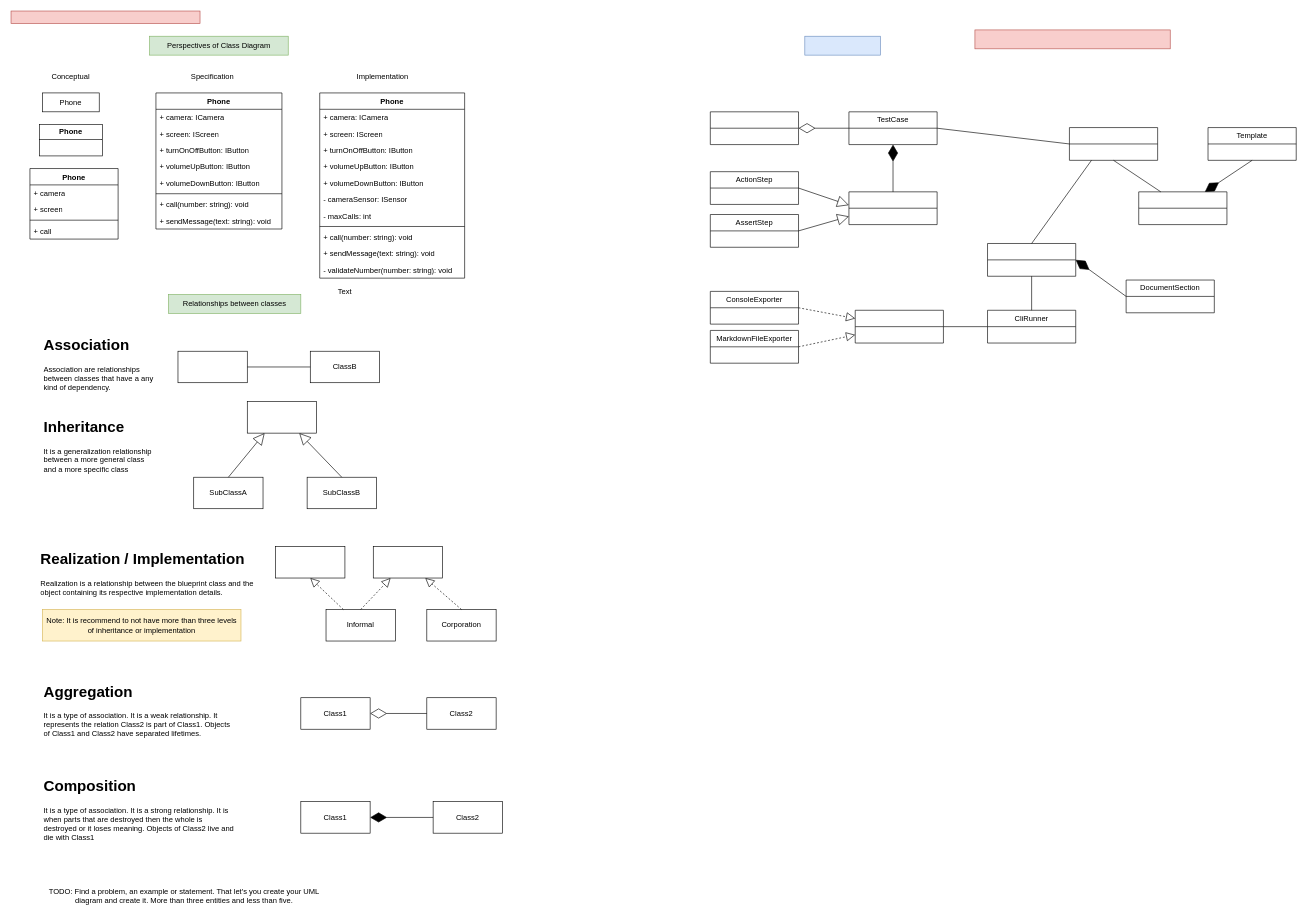
The diagram is 1307 pixels wide and 923 high, and some of its shapes have lost their labels. The shapes that lost their labels are listed below. From the top down, each one's centre as x and y in pixels, then its label:
point 105,17: Note: Never mix perspectives of class diagrams
point 842,45: CLI TOOL
point 1072,39: Note: We won't have a test library and the test will depend on the test case
point 754,128: TestSuite
point 1113,143: TestCaseBuilder
point 892,208: TestStep
point 1182,208: TemplateLibrary
point 1031,259: TestCaseDocument
point 899,326: IExporter
point 212,367: ClassA
point 282,417: SuperClass
point 310,562: «interface» Person
point 408,562: «interface» Owner
